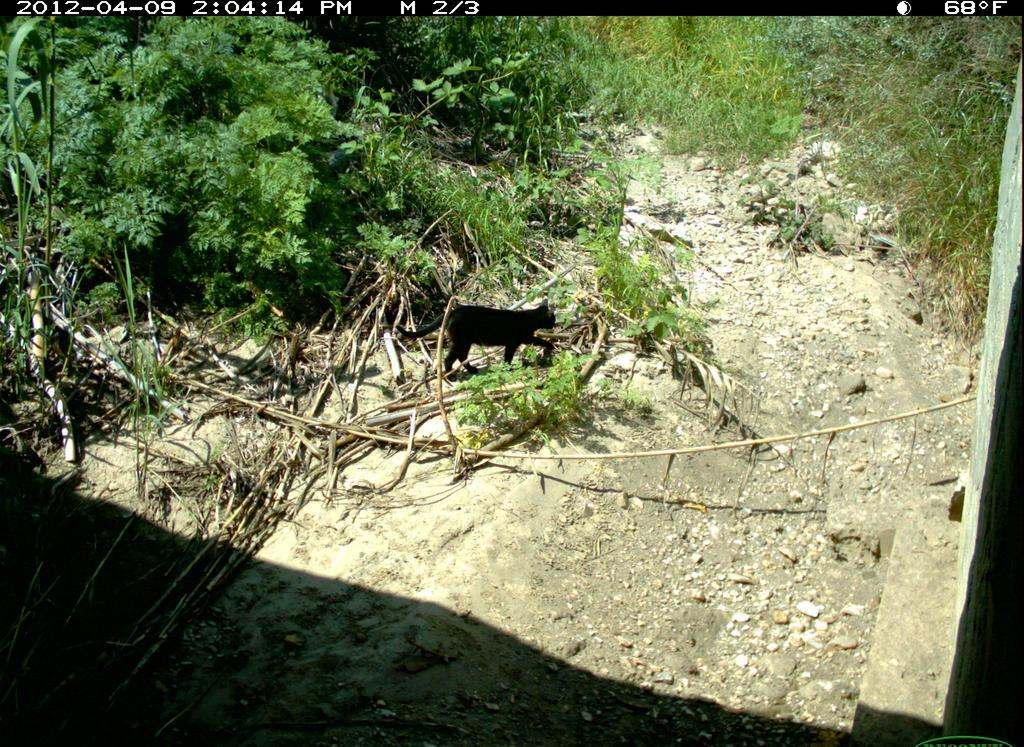cat: (388, 290, 579, 386)
